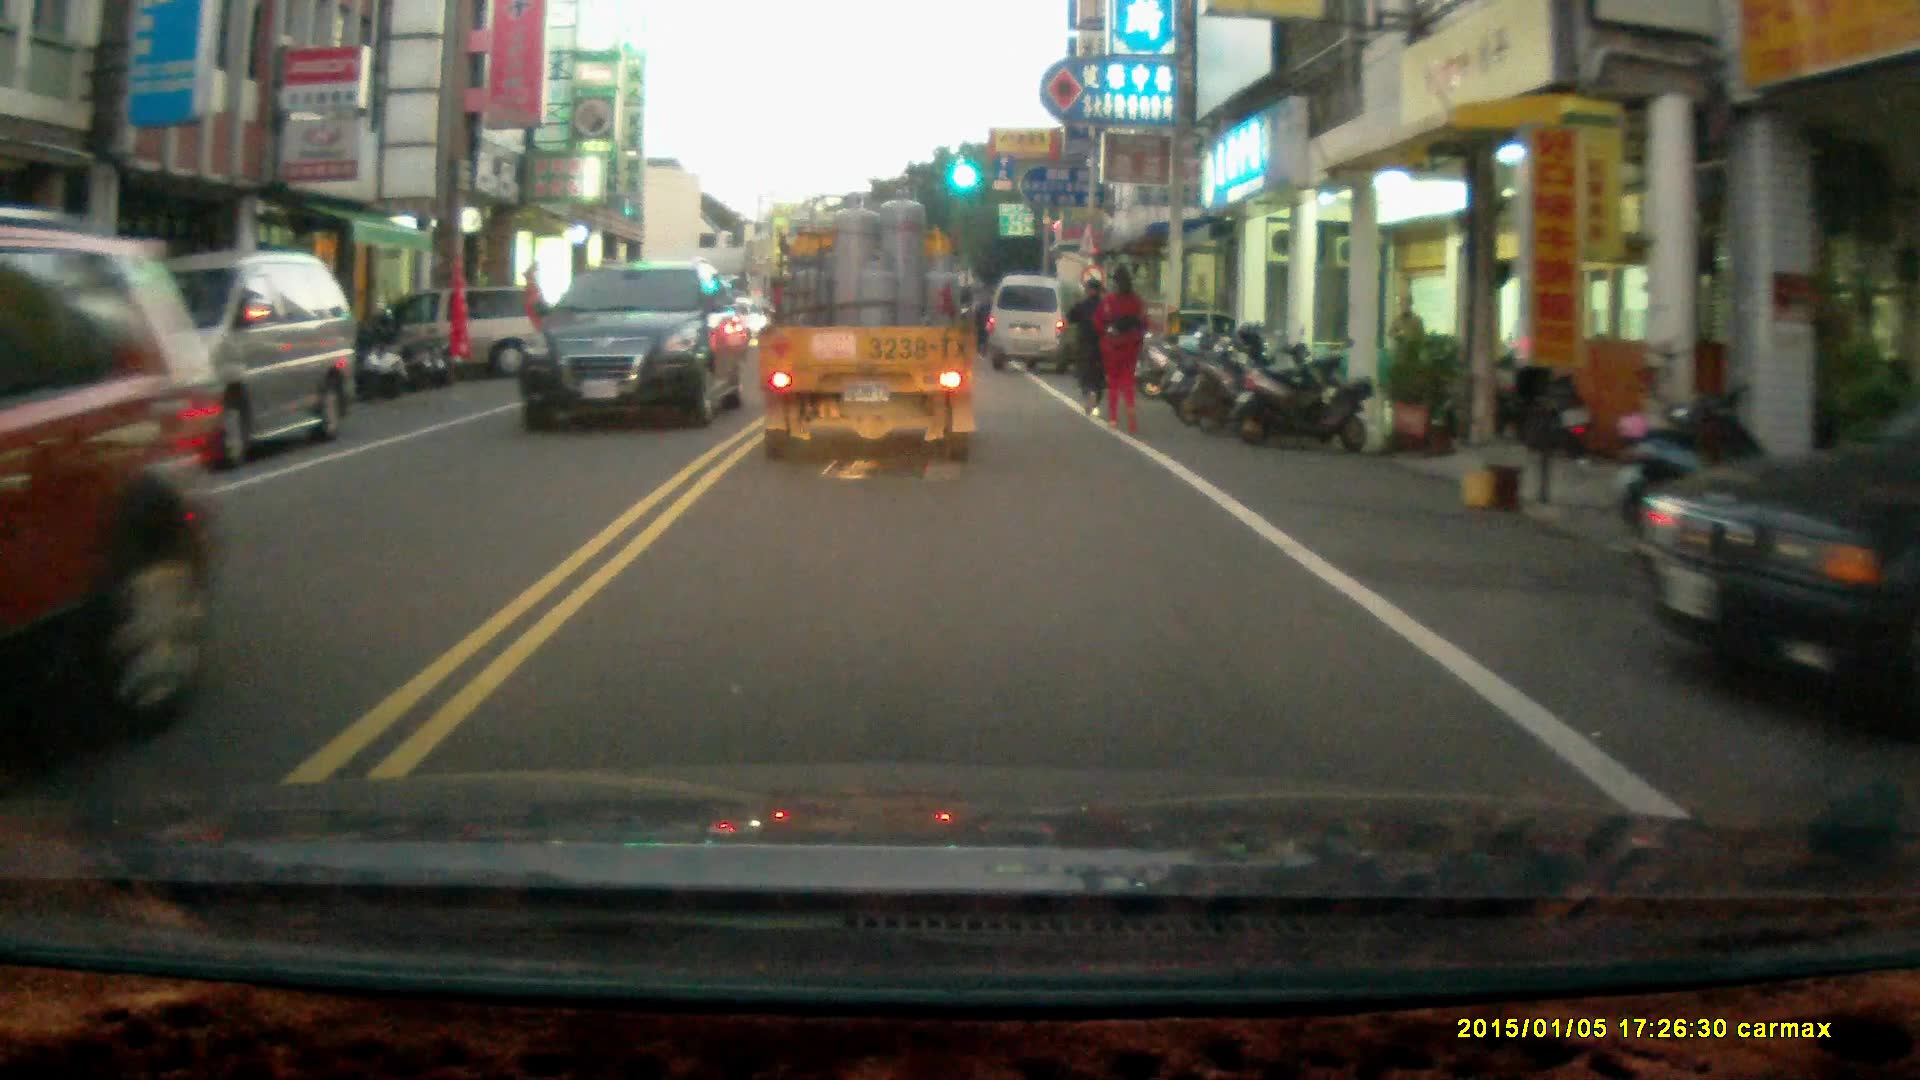pedestrian: (1092, 264, 1151, 436), (1065, 273, 1112, 416), (1385, 288, 1426, 395)
vehicle: (1, 216, 224, 744), (1627, 420, 1920, 700), (28, 252, 357, 475), (753, 175, 985, 464), (517, 255, 750, 433), (341, 287, 579, 376), (988, 275, 1092, 379)
